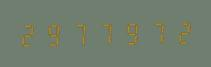nine: (117, 19, 141, 46), (42, 21, 66, 47)
seven: (67, 20, 91, 47), (92, 20, 116, 46), (142, 19, 166, 45)
two: (17, 21, 41, 48), (167, 18, 191, 45)
